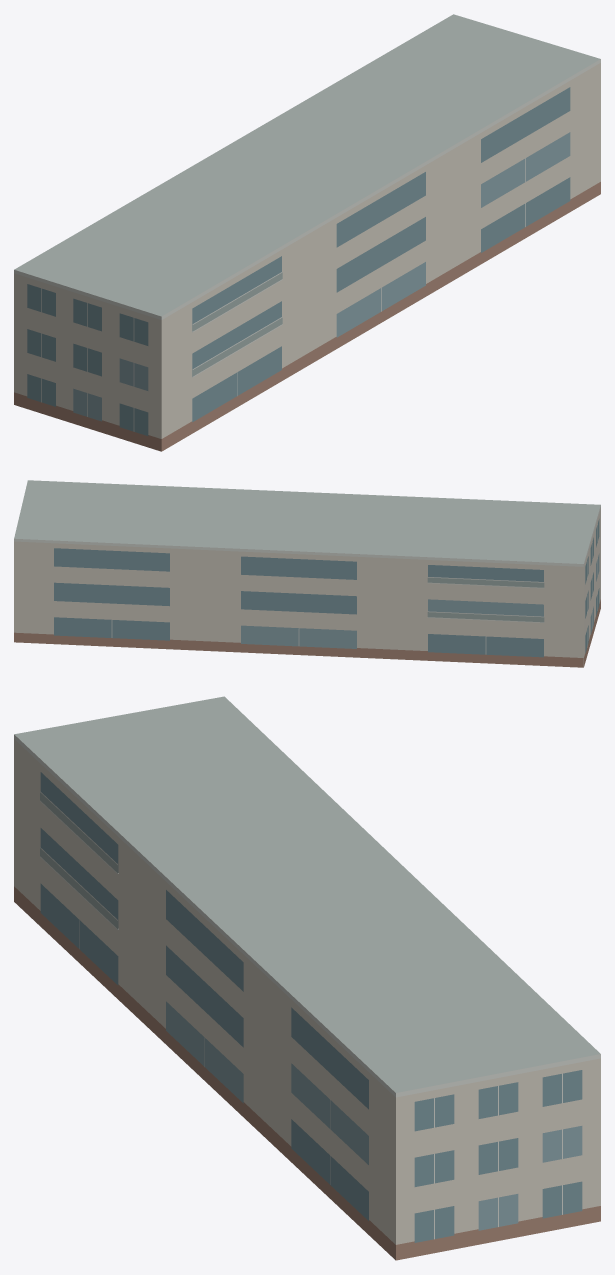
File: survey-upis-32965454.glb
3 renders of one model, top to bottom at view 1: azimuth 30°, elevation 25°; view 2: azimuth 150°, elevation 25°; view 3: azimuth 270°, elevation 25°, orthographic. The views are drawn at different scales.
Visible parts, largest first — view 1: survey-upis-32965454.tmp; view 2: survey-upis-32965454.tmp; view 3: survey-upis-32965454.tmp.
Boxes of the visible parts, x1,y1,x2,y2 form: survey-upis-32965454.tmp: (14, 14, 600, 451); survey-upis-32965454.tmp: (14, 480, 600, 667); survey-upis-32965454.tmp: (14, 696, 600, 1260).
Size of the model in its own units: 46.49 by 9.15 by 29.07.
